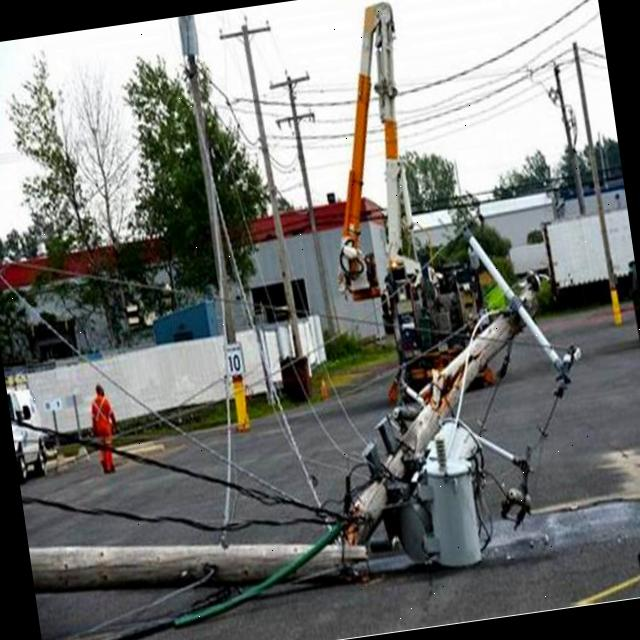Broken Pole: (27, 218, 577, 594)
